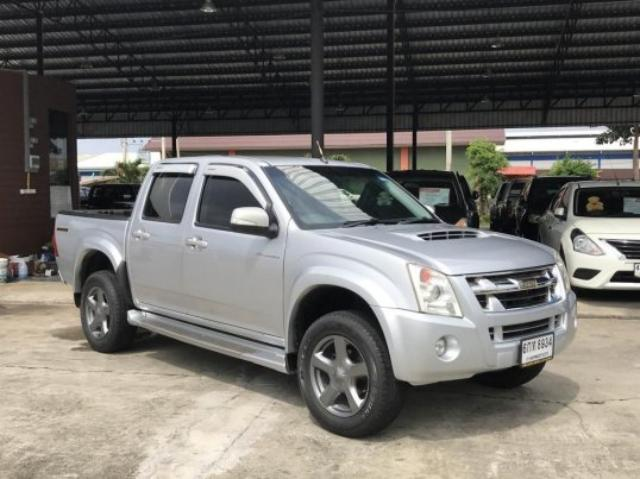pickup-truck: (52, 155, 581, 439)
